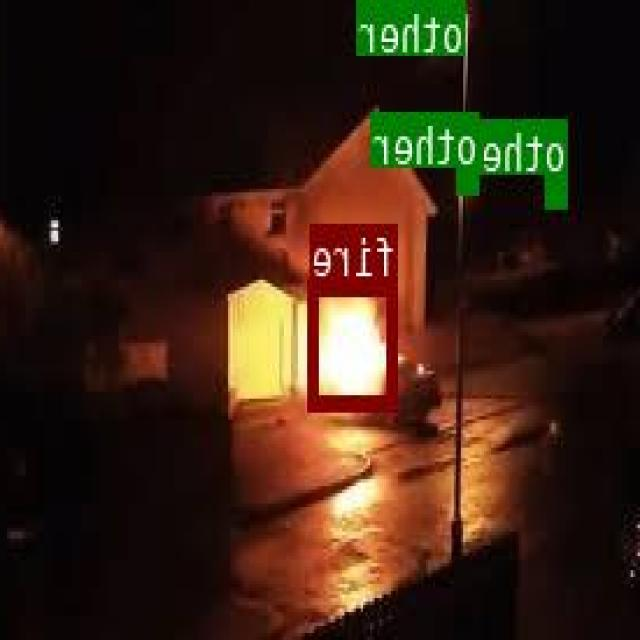fire: (311, 280, 398, 408)
other: (430, 0, 468, 35), (548, 172, 568, 204), (460, 168, 480, 191)
